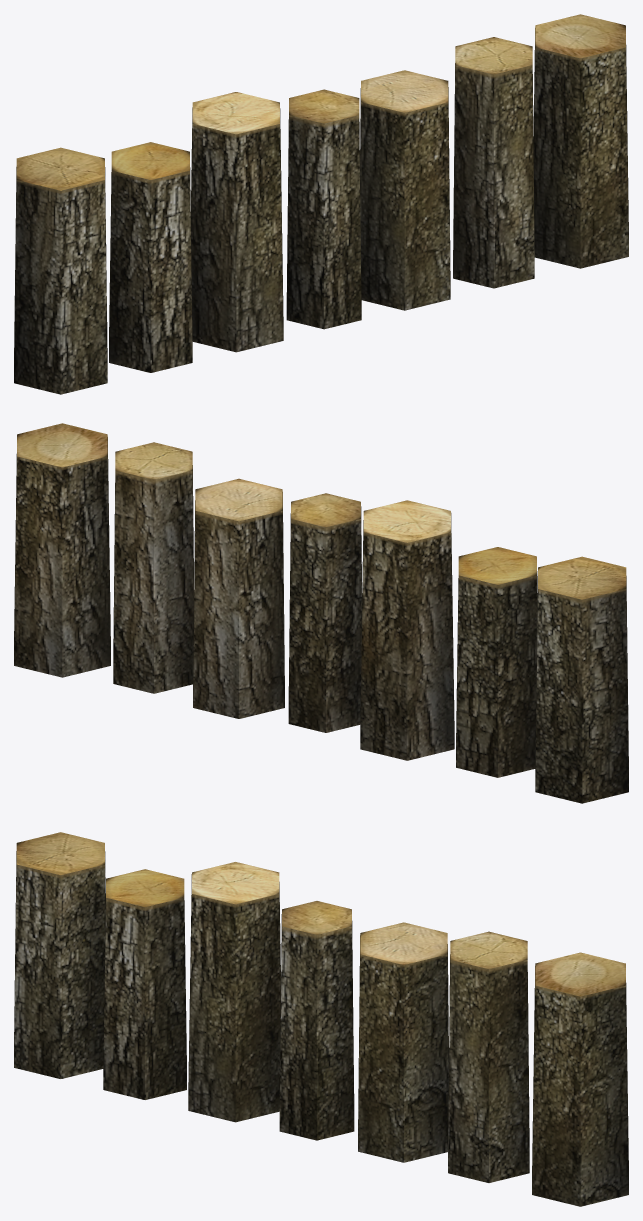
File: Wooden_Wall_Fence_01_low_mid.FBX
The picture shows the model from 3 angles, top to bottom: view 1: azimuth 30°, elevation 25°; view 2: azimuth 150°, elevation 25°; view 3: azimuth 330°, elevation 25°; orthographic projection.
Visible parts, largest first — view 1: Wooden_Wall_Fence_01_low_mid; view 2: Wooden_Wall_Fence_01_low_mid; view 3: Wooden_Wall_Fence_01_low_mid.
Part boxes in pixels (x1,y1,x2,y2): Wooden_Wall_Fence_01_low_mid: (14,14,628,394); Wooden_Wall_Fence_01_low_mid: (14,423,628,803); Wooden_Wall_Fence_01_low_mid: (14,832,628,1206).
Bounding box in the file's own units: 19.52 × 6.56 × 2.66.
1 material, 1 textured.
